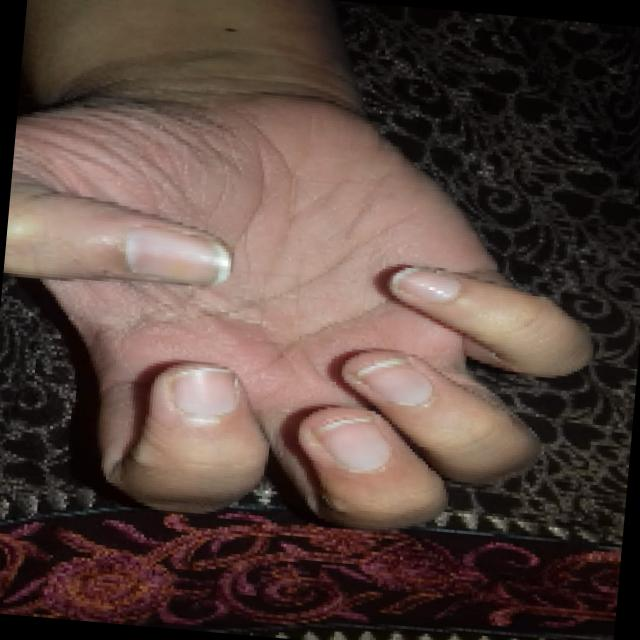Nail: (123, 226, 229, 283), (312, 417, 390, 472), (355, 356, 431, 406), (169, 367, 235, 415), (393, 267, 460, 302)
